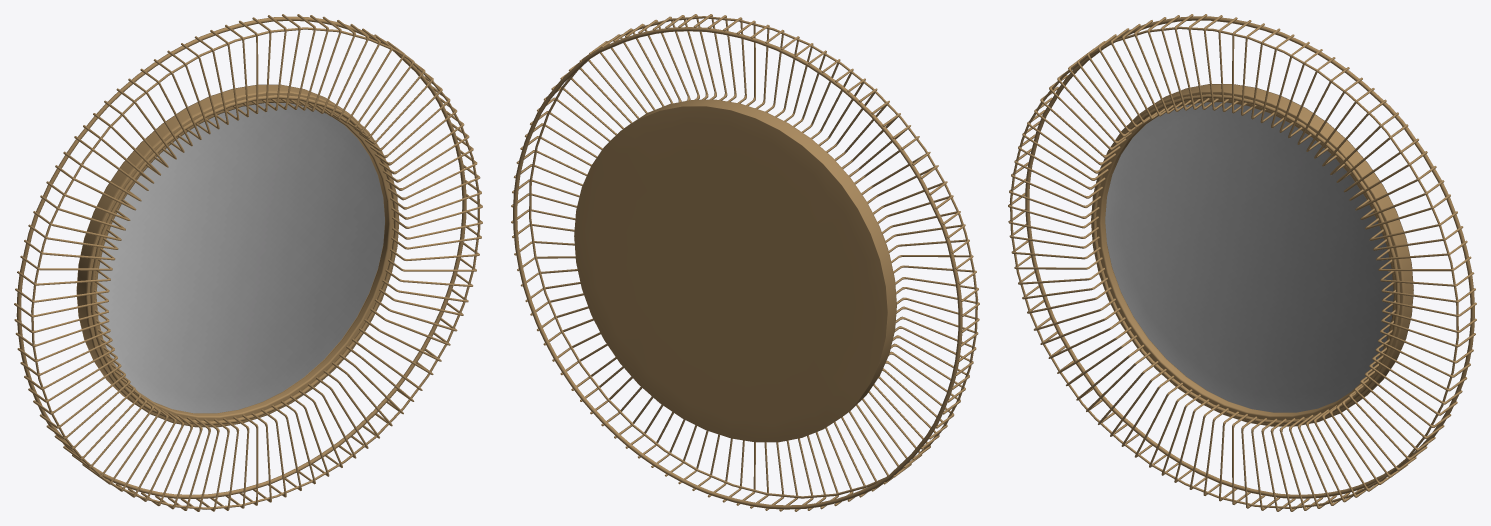
Rendered from abo-B073WHYS32.glb.
The picture shows the model from 3 angles, left to right: view 1: azimuth 30°, elevation 25°; view 2: azimuth 150°, elevation 25°; view 3: azimuth 330°, elevation 25°; orthographic projection.
Size of the model in its own units: 0.703 by 0.703 by 0.067.
Materials: 1 (1 with a texture image).
